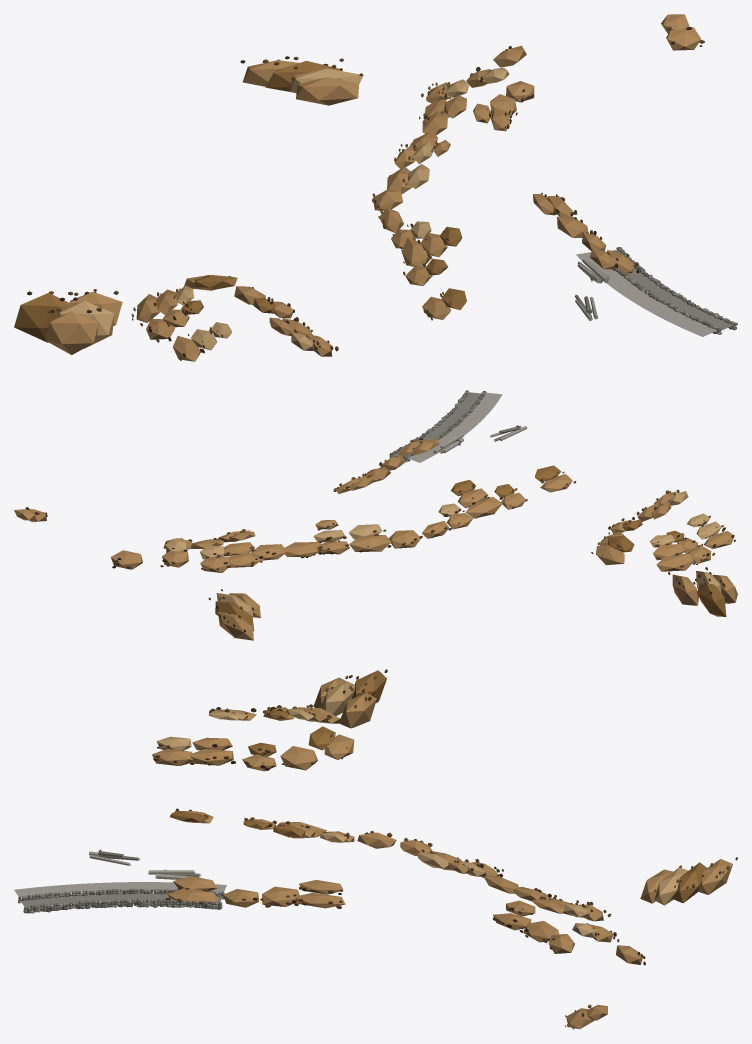
Rendered from chunk_-1_4.glb.
The picture shows the model from 3 angles, top to bottom: view 1: azimuth 30°, elevation 25°; view 2: azimuth 150°, elevation 25°; view 3: azimuth 270°, elevation 25°; orthographic projection. The views are drawn at different scales.
Parts seen in each view (by area): view 1: chunk_-1_4; view 2: chunk_-1_4; view 3: chunk_-1_4.
Part boxes in pixels (x1,y1,x2,y2): chunk_-1_4: (14, 14, 737, 361); chunk_-1_4: (14, 390, 737, 640); chunk_-1_4: (14, 669, 737, 1029).
Size of the model in its own units: 130 by 8.22 by 112.
